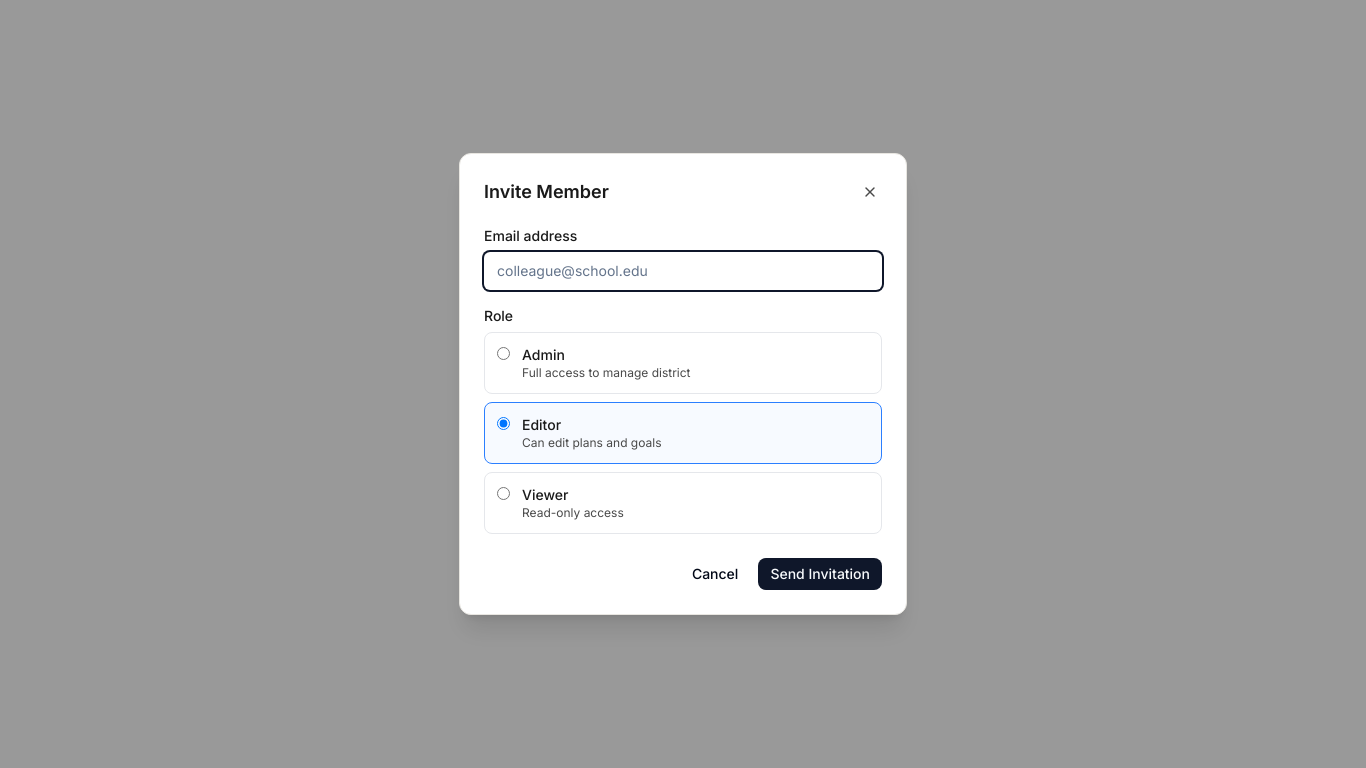
Test: InviteModal › shows error message when invitation fails
Type "existing@test.com" into the field labelled "Email address" at point(683, 271), box [484,252,882,290]
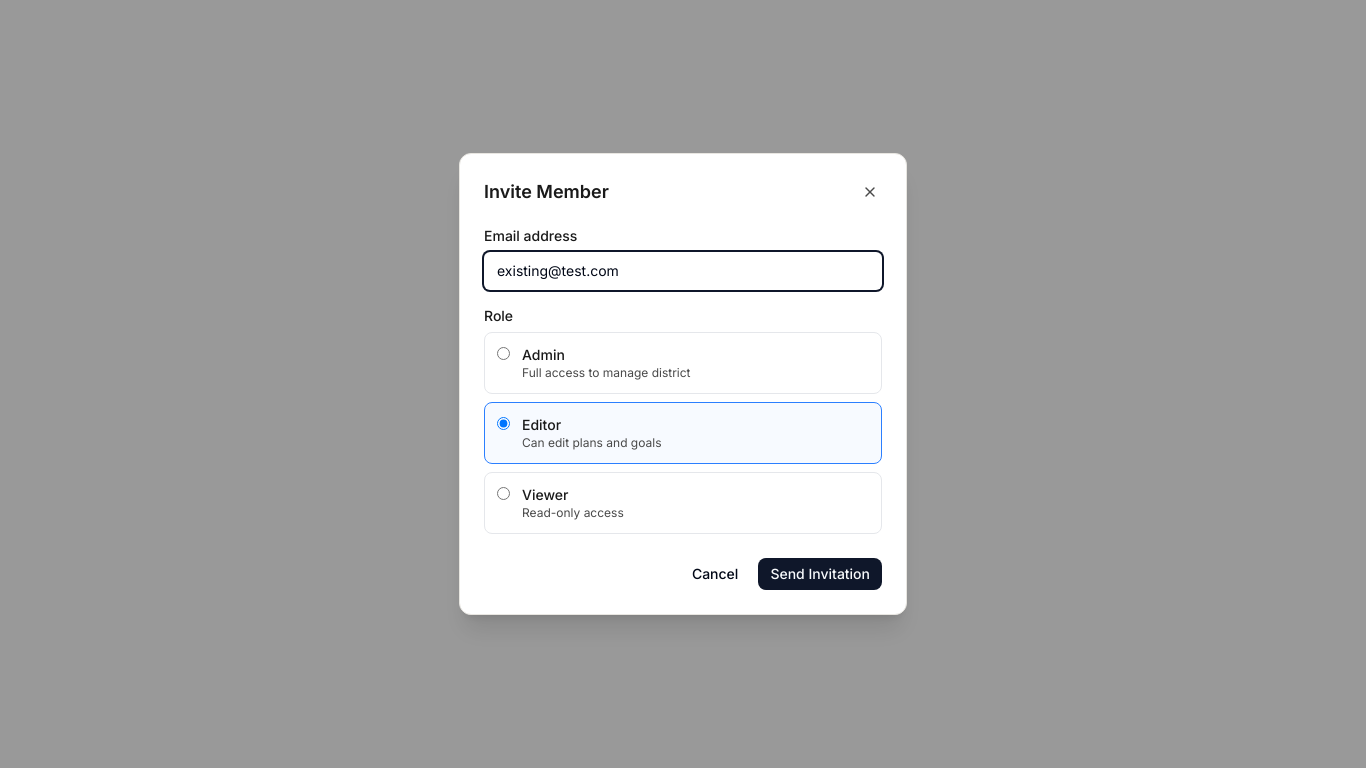
Click the button "Send Invitation" at point(820, 574), box [758,558,882,590]
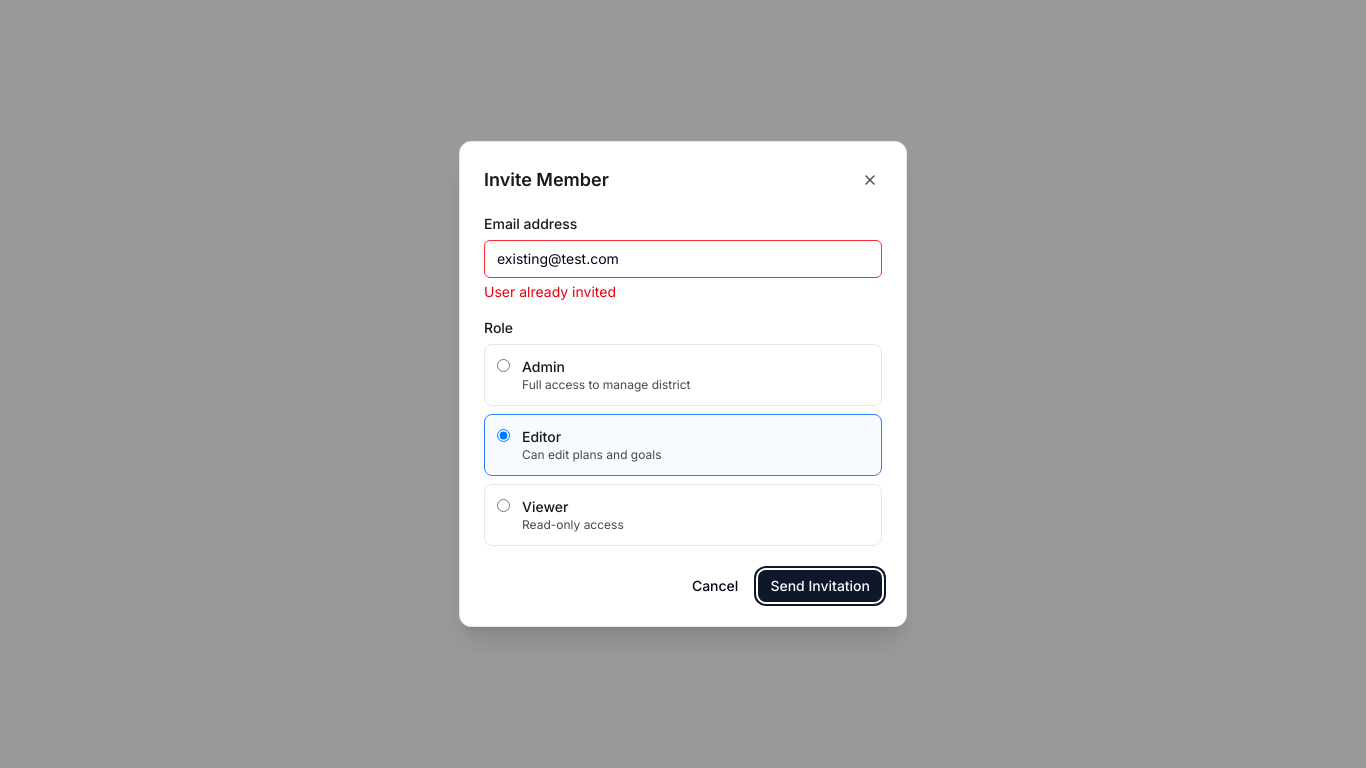
expect the text "User already invited" is shown: met, box [484,283,616,300]
